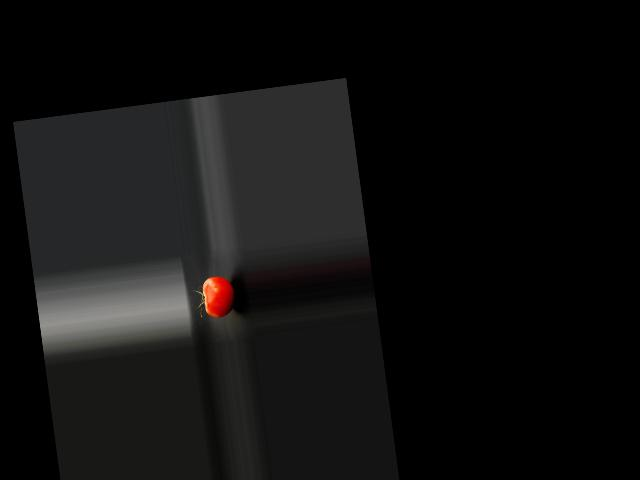tomato: (201, 273, 237, 318)
